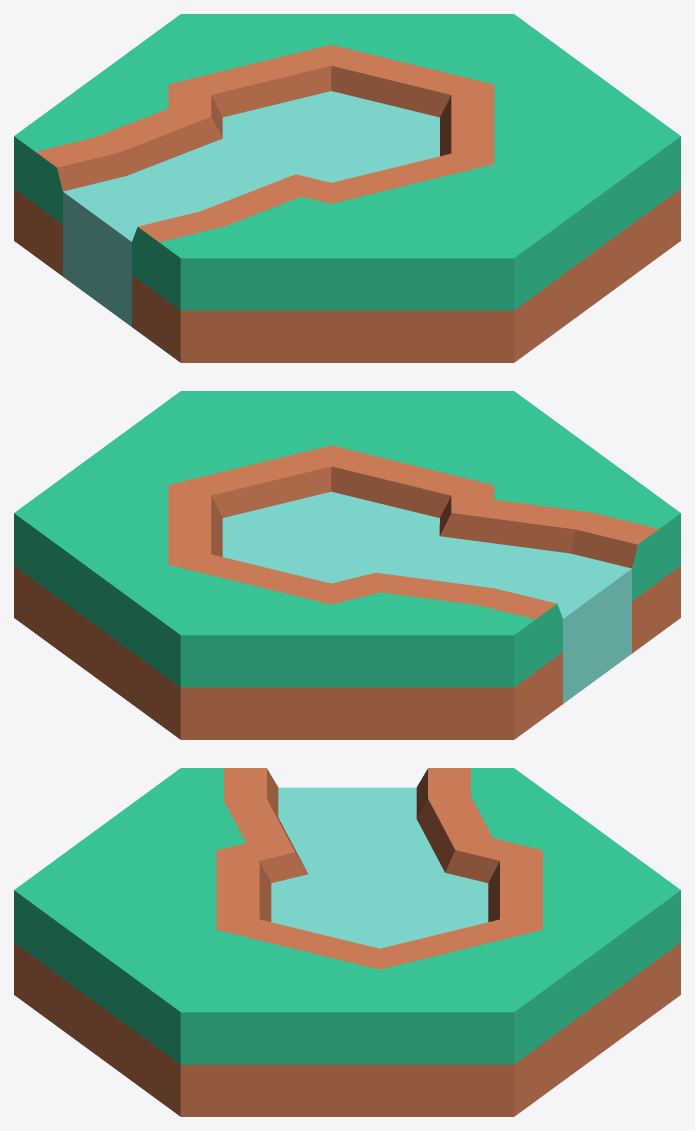
File: river_start.fbx
3 views of the same model, one above another, from view 1: azimuth 30°, elevation 25°; view 2: azimuth 150°, elevation 25°; view 3: azimuth 270°, elevation 25° (orthographic).
Parts seen in each view (by area): view 1: river_start; view 2: river_start; view 3: river_start.
Boxes of the visible parts, x1=… form: river_start: x1=14, y1=14, x2=680, y2=362; river_start: x1=14, y1=391, x2=680, y2=739; river_start: x1=14, y1=768, x2=680, y2=1116.
Size of the model in its own units: 10 by 2 by 11.55.
